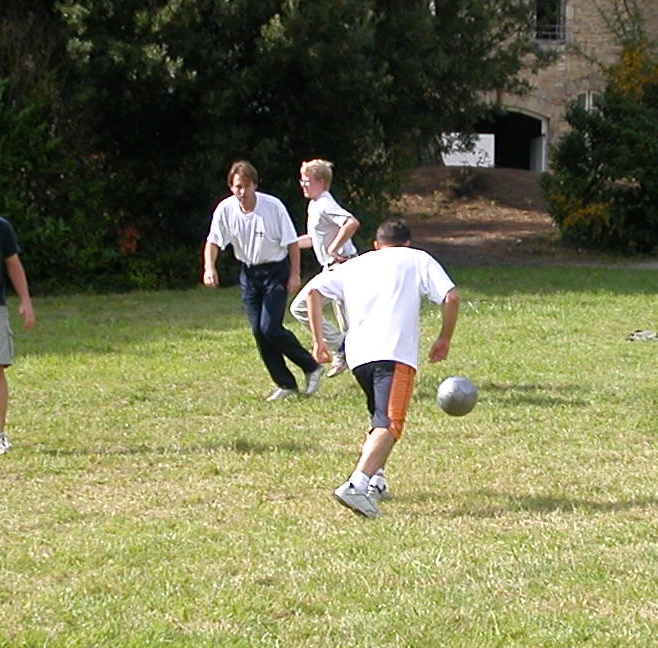person: (310, 214, 458, 519), (199, 158, 326, 399)
